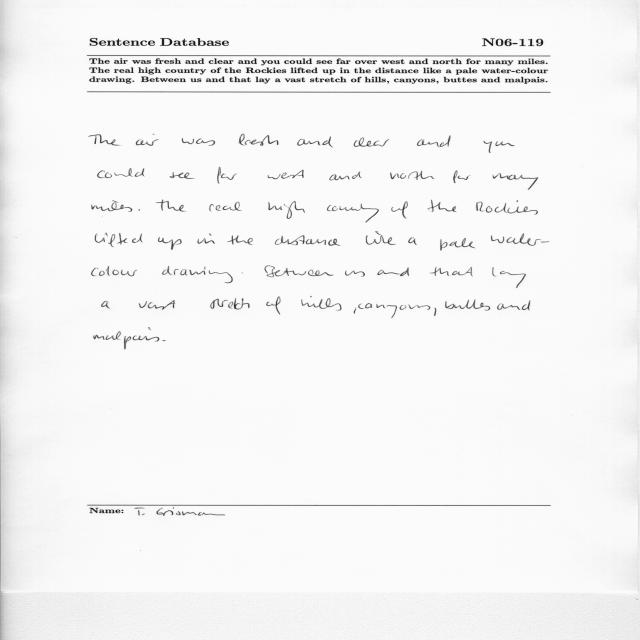word: (94, 328, 159, 350), (162, 266, 233, 283), (358, 303, 430, 318), (327, 204, 379, 223), (476, 200, 538, 215), (493, 173, 538, 190), (265, 266, 334, 277), (491, 233, 549, 246), (275, 235, 340, 246), (492, 267, 526, 288), (95, 233, 143, 247), (268, 201, 305, 219), (301, 296, 342, 311), (445, 300, 490, 311), (239, 134, 279, 146), (92, 200, 132, 212), (98, 168, 145, 178), (440, 238, 475, 251), (92, 266, 137, 276), (210, 298, 250, 309), (366, 231, 396, 245), (297, 137, 333, 148), (390, 171, 434, 180), (430, 267, 473, 276), (417, 136, 451, 147), (89, 134, 120, 146), (484, 141, 515, 153), (139, 300, 175, 310), (354, 137, 389, 147), (428, 200, 457, 212), (217, 167, 237, 184), (497, 301, 531, 311), (156, 200, 186, 211), (209, 202, 242, 212), (391, 201, 408, 219), (329, 172, 362, 181), (158, 238, 182, 250), (377, 268, 409, 277), (266, 296, 281, 315), (136, 134, 159, 146), (182, 138, 215, 146), (227, 235, 253, 245), (453, 171, 470, 184), (281, 170, 304, 179), (197, 233, 215, 244), (169, 172, 195, 179), (345, 271, 365, 277), (408, 237, 417, 245), (268, 174, 281, 179), (102, 301, 110, 309), (434, 308, 436, 316), (354, 309, 356, 314), (138, 209, 140, 211), (162, 340, 166, 341), (242, 273, 243, 273)
